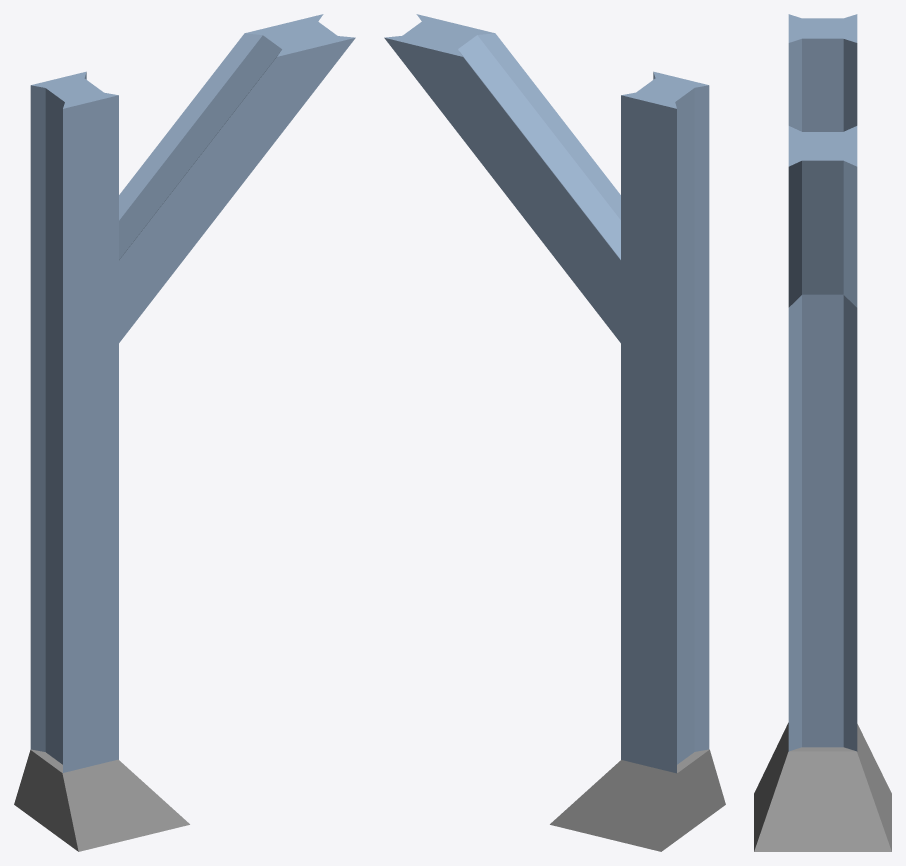
File: pillar_metal_side.fbx
3 renders of one model, left to right at view 1: azimuth 30°, elevation 25°; view 2: azimuth 150°, elevation 25°; view 3: azimuth 270°, elevation 25°, orthographic. The views are drawn at different scales.
Visible parts, largest first — view 1: Cube.001; view 2: Cube.001; view 3: Cube.001.
Part boxes in pixels (x1,y1,x2,y2): Cube.001: (14, 14, 355, 851); Cube.001: (384, 14, 725, 851); Cube.001: (754, 14, 891, 851).
Bounding box in the file's own units: 1049 × 2496 × 400.
